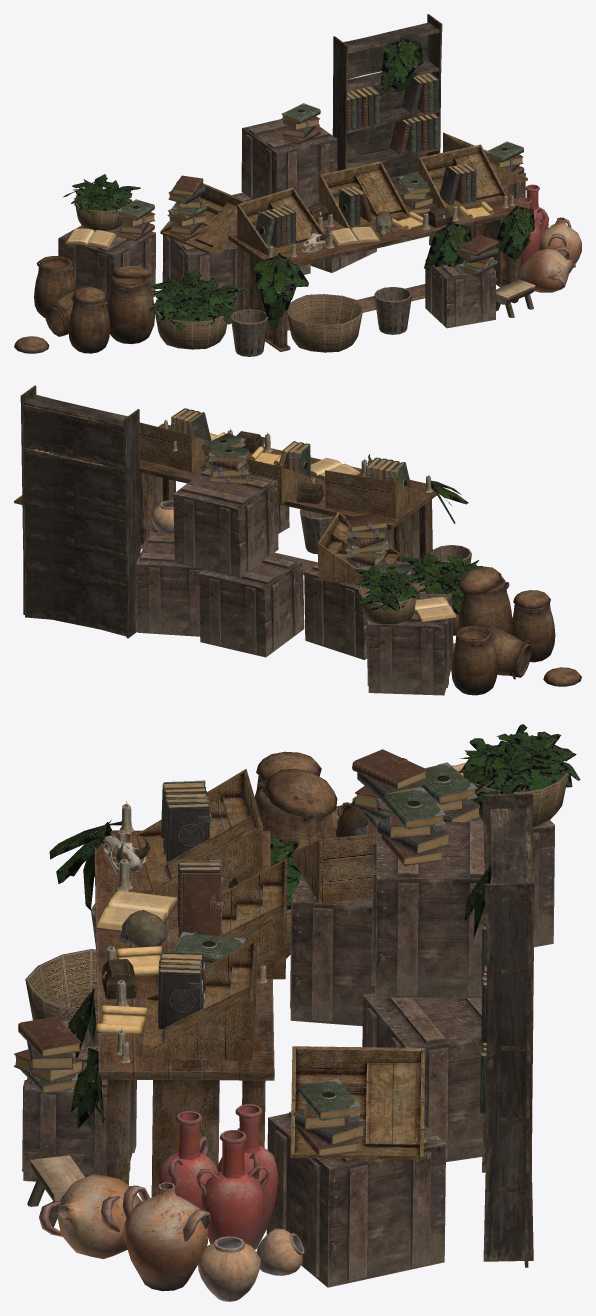
File: NTSho_Magic-transformed.glb
The picture shows the model from 3 angles, top to bottom: view 1: azimuth 30°, elevation 25°; view 2: azimuth 150°, elevation 25°; view 3: azimuth 270°, elevation 25°; orthographic projection. The views are drawn at different scales.
Parts seen in each view (by area): view 1: default; view 2: default; view 3: default.
Part boxes in pixels (x1=…): default: x1=14, y1=14, x2=581, y2=356; default: x1=14, y1=385, x2=581, y2=695; default: x1=14, y1=724, x2=580, y2=1301.
Bounding box in the file's own units: 5.38 × 2.01 × 2.66.
16 materials, 16 textured.
